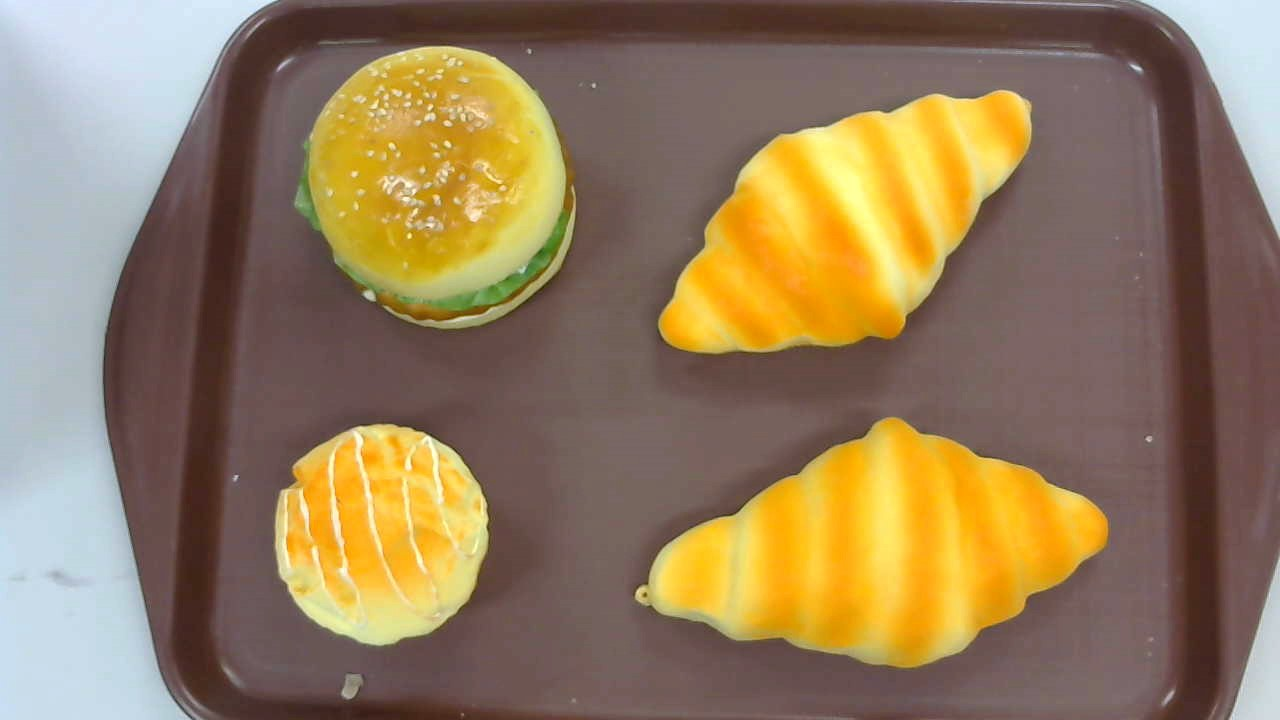croissant: (634, 417, 1109, 670), (658, 91, 1032, 354)
cupcake: (274, 423, 488, 647)
hamburger: (294, 47, 578, 328)
